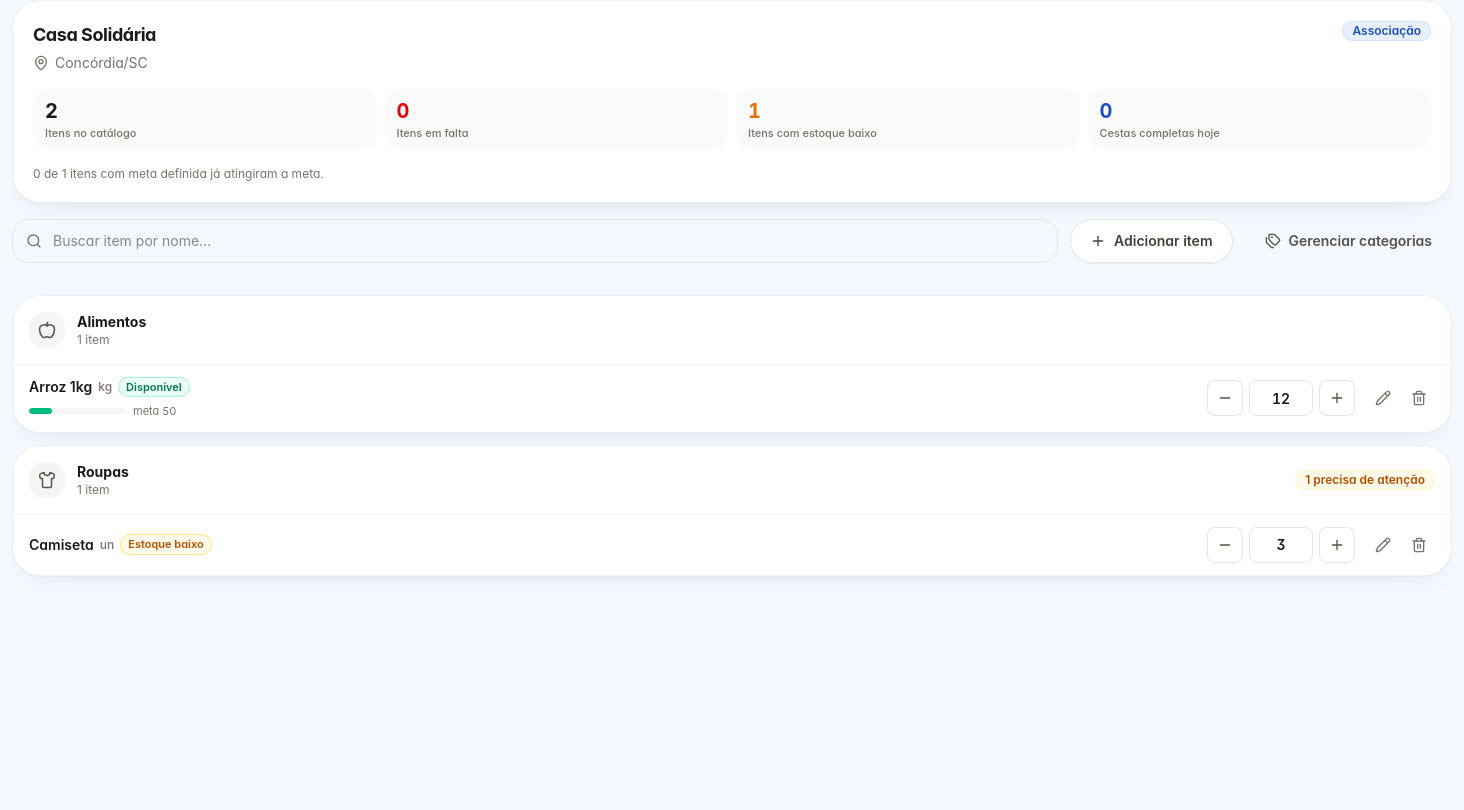
Test: StockEditor › ajusta a quantidade na hora e salva sozinho, sem precisar de um botão salvar
Click the button named "Aumentar Arroz 1kg" at (1337, 398), box x1=1319 y1=380 x2=1355 y2=416
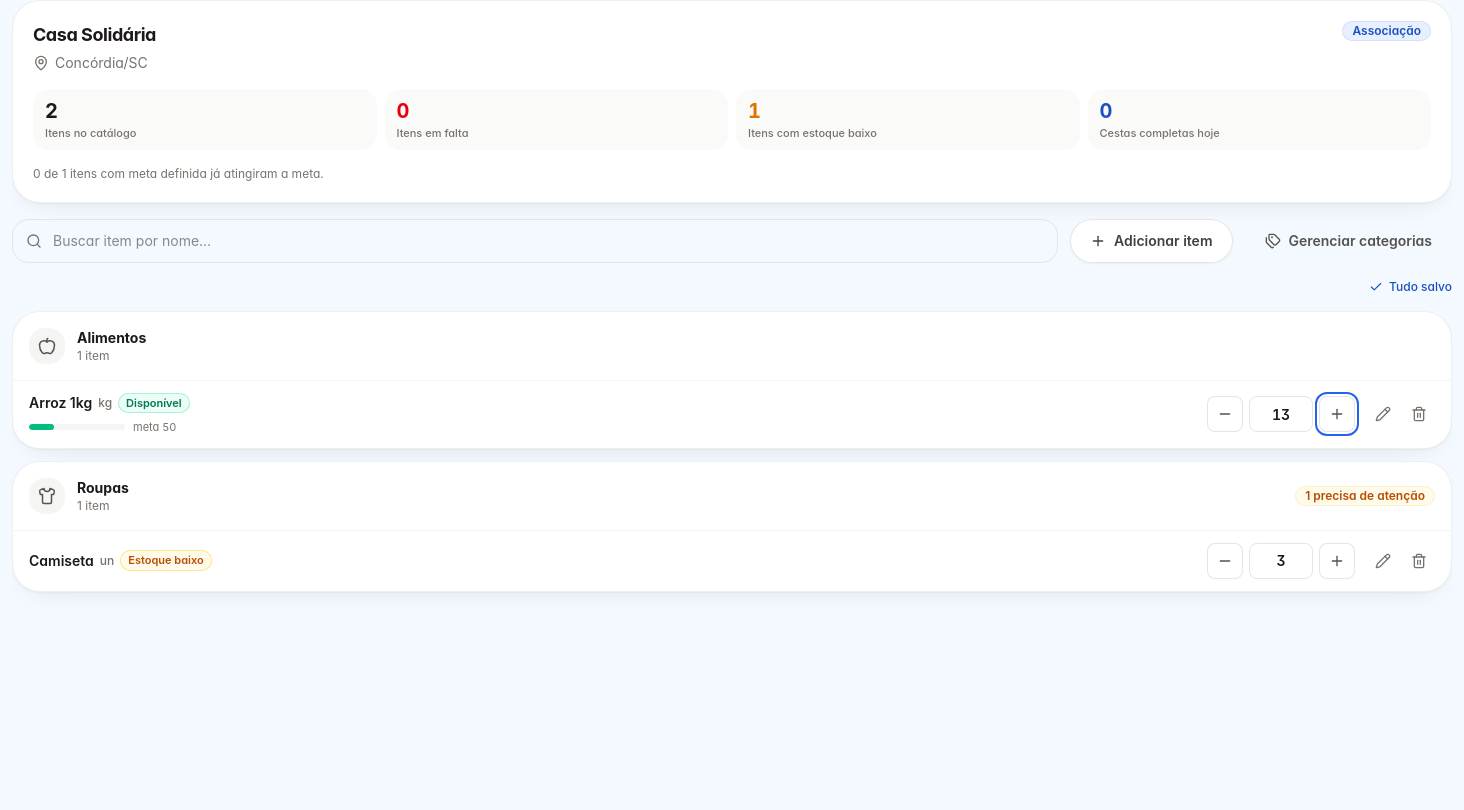
Expected: the number field named "Quantidade de Arroz 1kg" holds "13", x1=1249 y1=396 x2=1313 y2=432
Expected: the text "Tudo salvo" is shown, x1=1369 y1=278 x2=1452 y2=294
